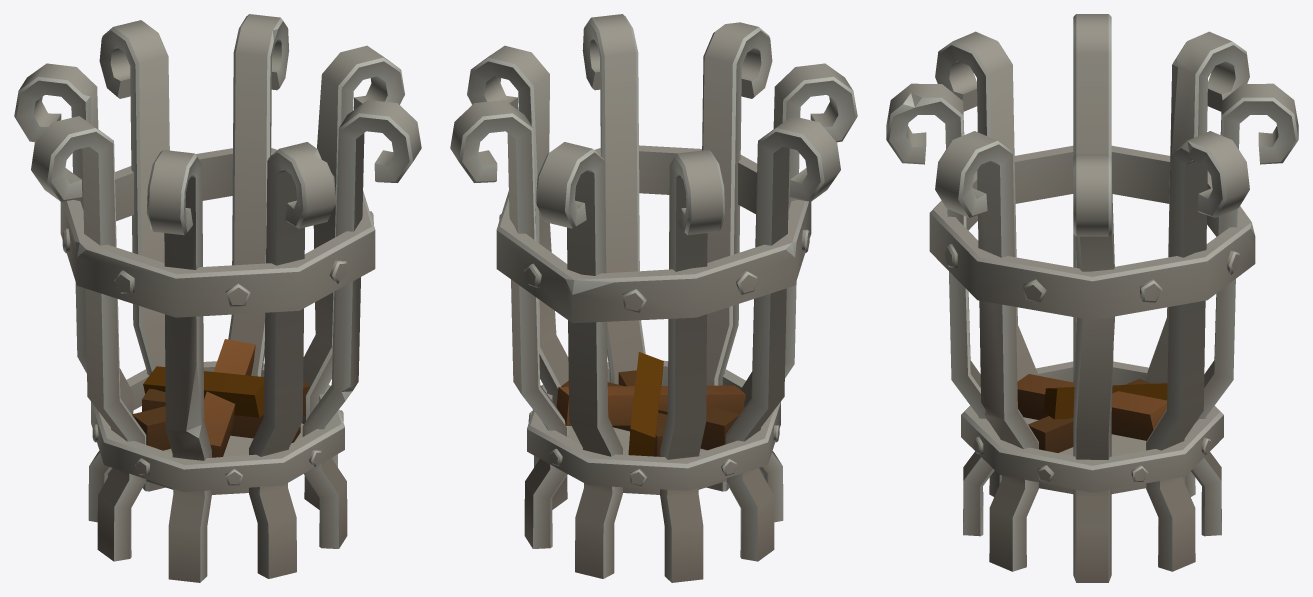
File: FirePlace_1_2_C.glb
3 renders of one model, left to right at view 1: azimuth 30°, elevation 25°; view 2: azimuth 150°, elevation 25°; view 3: azimuth 270°, elevation 25°, orthographic.
Parts seen in each view (by area): view 1: FirePlace_1_2_C; view 2: FirePlace_1_2_C; view 3: FirePlace_1_2_C.
Part boxes in pixels (x1=…): FirePlace_1_2_C: x1=14, y1=14, x2=421, y2=582; FirePlace_1_2_C: x1=450, y1=14, x2=857, y2=582; FirePlace_1_2_C: x1=886, y1=14, x2=1298, y2=582.
Size of the model in its own units: 0.7082 by 0.8289 by 0.7082.
2 materials, 2 textured.
